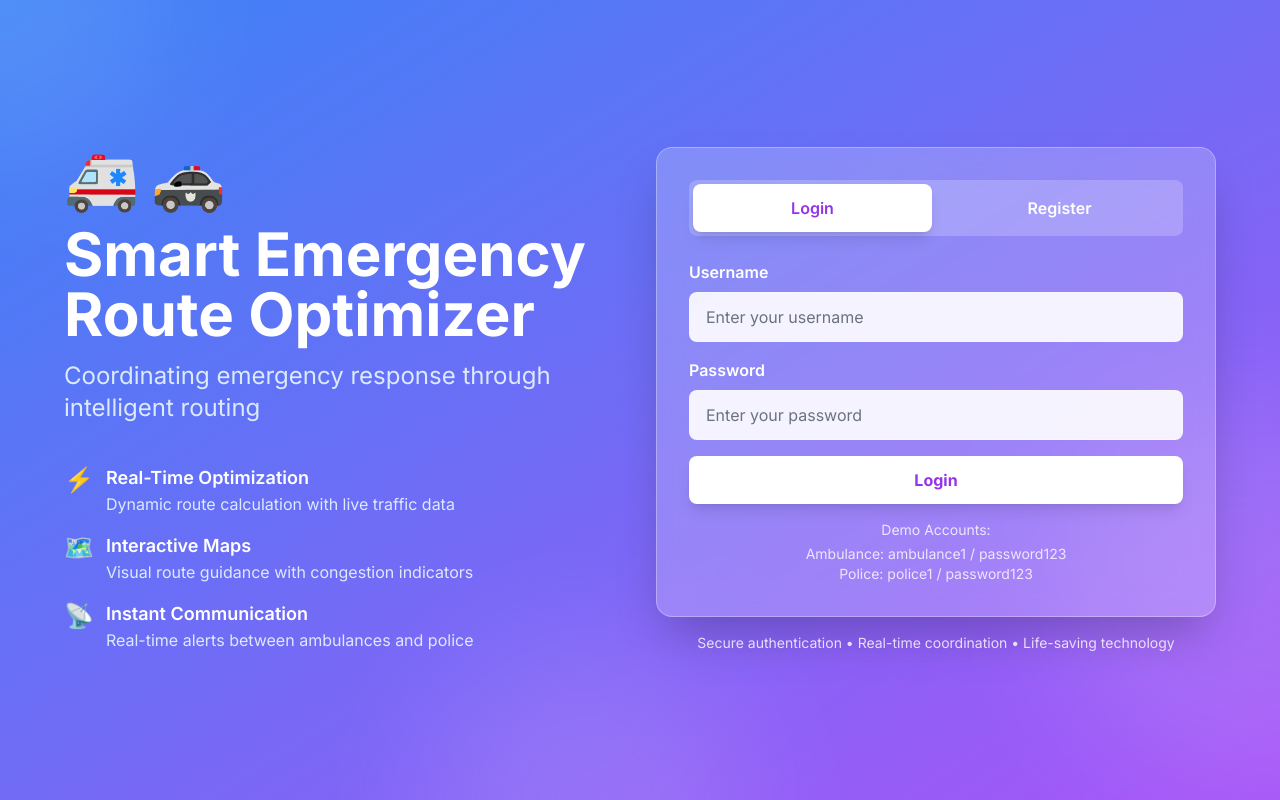
Test: LandingPage › should switch back to login form when login tab is clicked
Switch to register
Click the button "Register".
click(1060, 208)  # box [940, 184, 1179, 232]
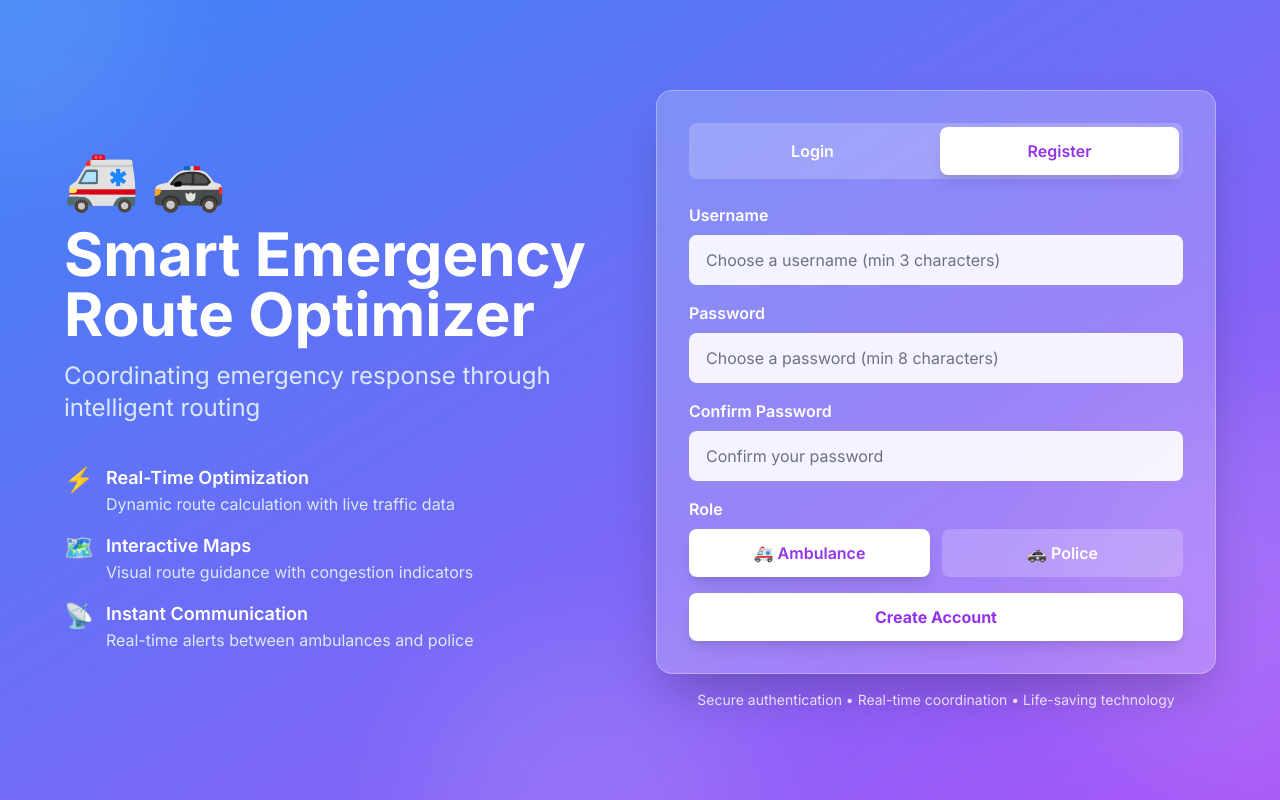
Switch back to login
Click the button "Login".
click(812, 151)  # box [693, 127, 932, 175]
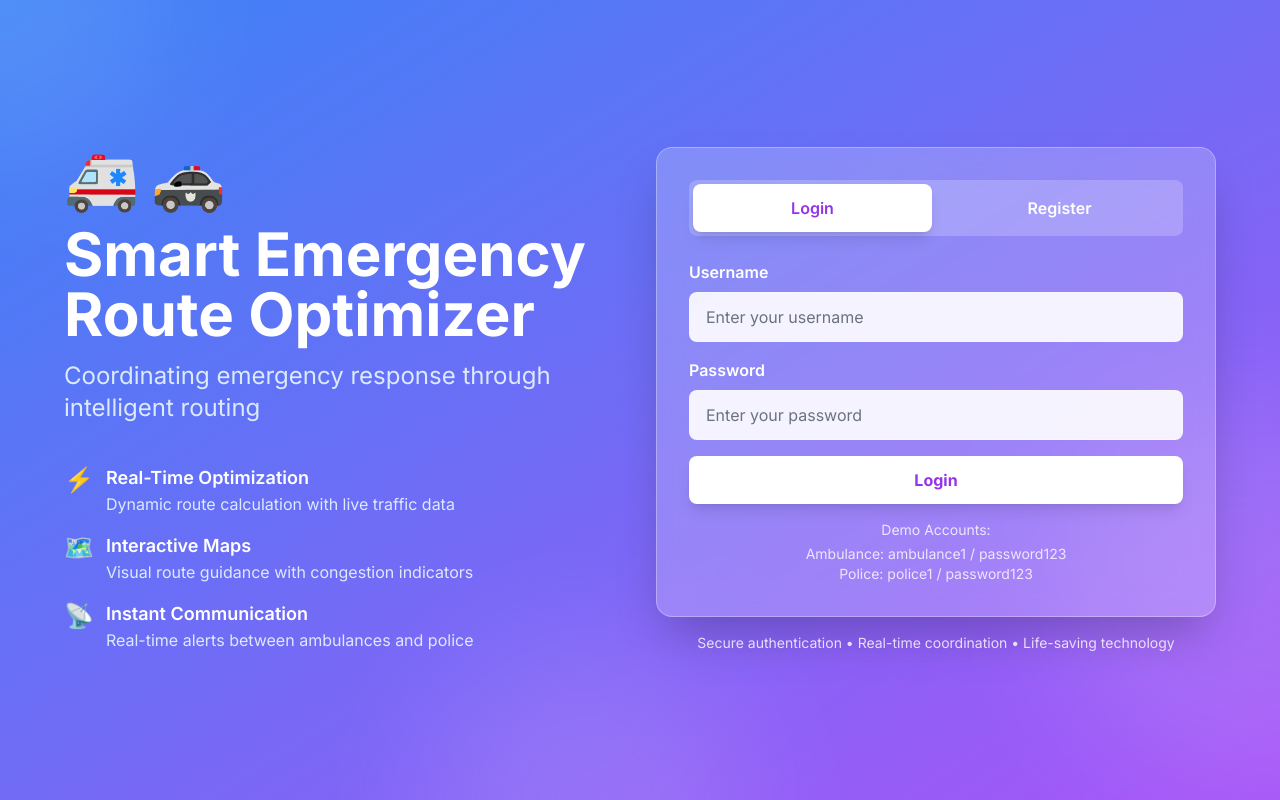
Expected: the label labelled "Confirm Password" is gone
